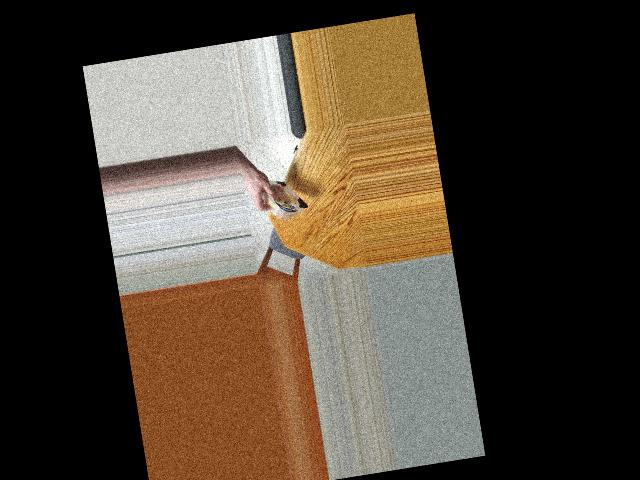cheese: (260, 163, 307, 226)
